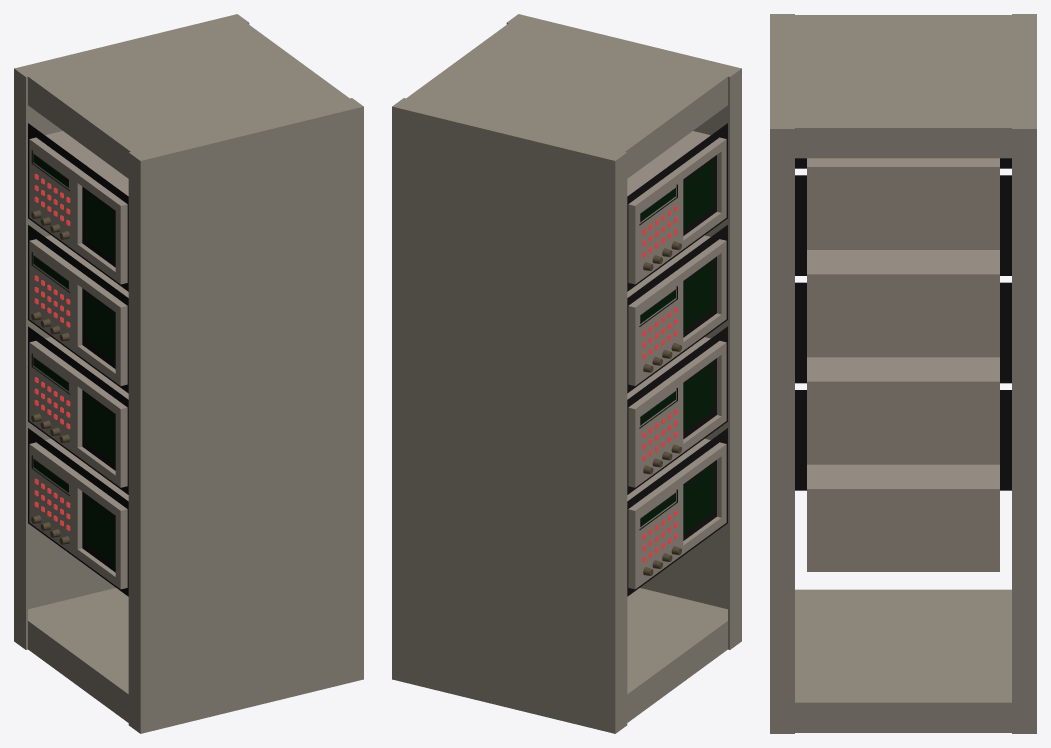
The model's file is electronics_cabinet.fbx.
The picture shows the model from 3 angles, left to right: view 1: azimuth 30°, elevation 25°; view 2: azimuth 150°, elevation 25°; view 3: azimuth 270°, elevation 25°; orthographic projection. The views are drawn at different scales.
Visible parts, largest first — view 1: electronics_cabinet; view 2: electronics_cabinet; view 3: electronics_cabinet.
Boxes of the visible parts, <box> form: electronics_cabinet: <box>14,14,363,733</box>; electronics_cabinet: <box>392,14,741,733</box>; electronics_cabinet: <box>770,14,1036,733</box>.
Bounding box in the file's own units: 106 × 250 × 100.
